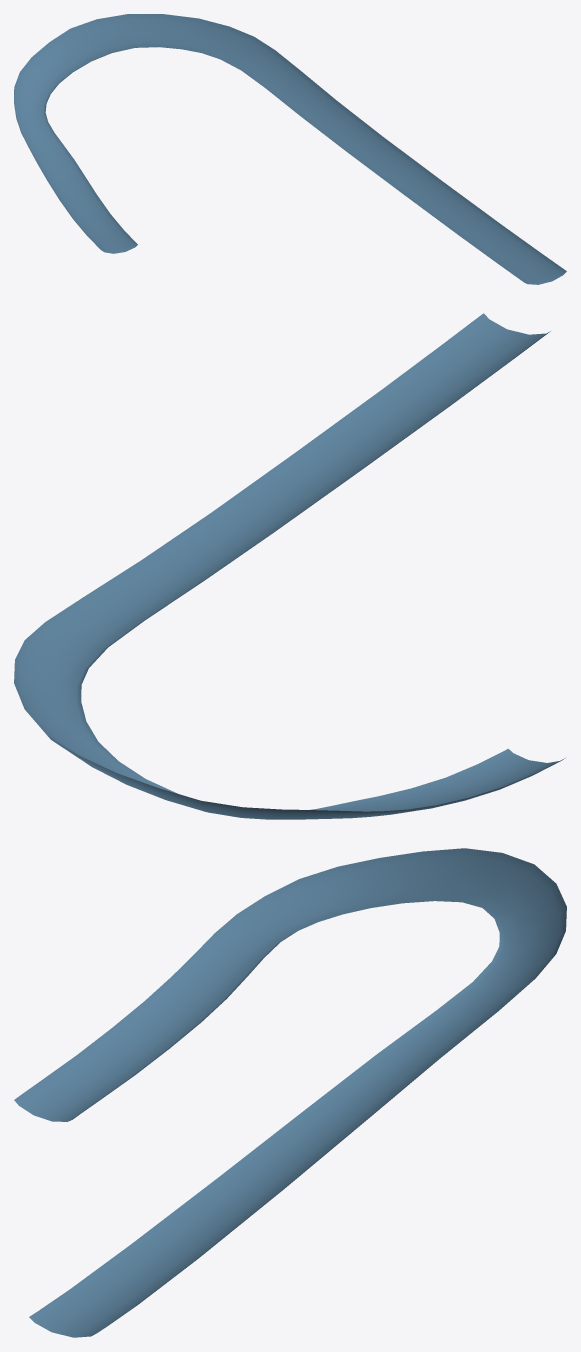
The model's file is water_slide_plane.fbx.
3 renders of one model, top to bottom at view 1: azimuth 30°, elevation 25°; view 2: azimuth 150°, elevation 25°; view 3: azimuth 330°, elevation 25°, orthographic. The views are drawn at different scales.
Visible parts, largest first — view 1: polySurface2; view 2: polySurface2; view 3: polySurface2.
Part boxes in pixels (bbox=[...]): polySurface2: bbox=[14, 14, 566, 284]; polySurface2: bbox=[14, 313, 564, 819]; polySurface2: bbox=[14, 848, 566, 1337].
Size of the model in its own units: 20087 by 6834 by 48897.
